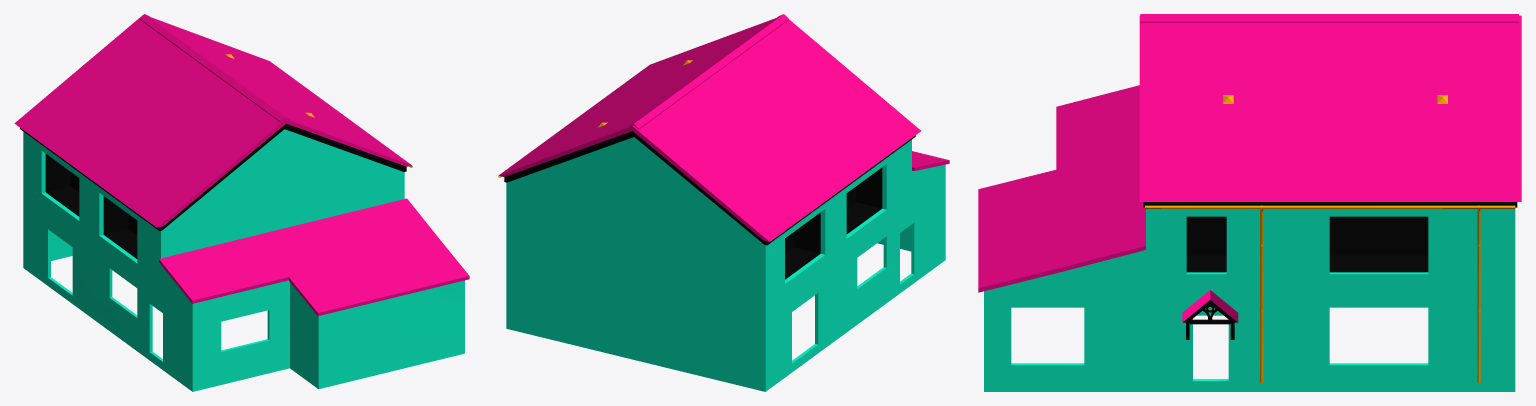
Rendered from House_Jeff_Nelly_Exterior.FBX.
3 renders of one model, left to right at view 1: azimuth 30°, elevation 25°; view 2: azimuth 150°, elevation 25°; view 3: azimuth 270°, elevation 25°, orthographic. The views are drawn at different scales.
Parts seen in each view (by area): view 1: House_JeffNelly_Exterior; view 2: House_JeffNelly_Exterior; view 3: House_JeffNelly_Exterior.
Boxes of the visible parts, bbox=[...] form: House_JeffNelly_Exterior: bbox=[14, 14, 469, 391]; House_JeffNelly_Exterior: bbox=[498, 14, 949, 391]; House_JeffNelly_Exterior: bbox=[978, 14, 1521, 391].
Size of the model in its own units: 1144 by 919 by 1514.
